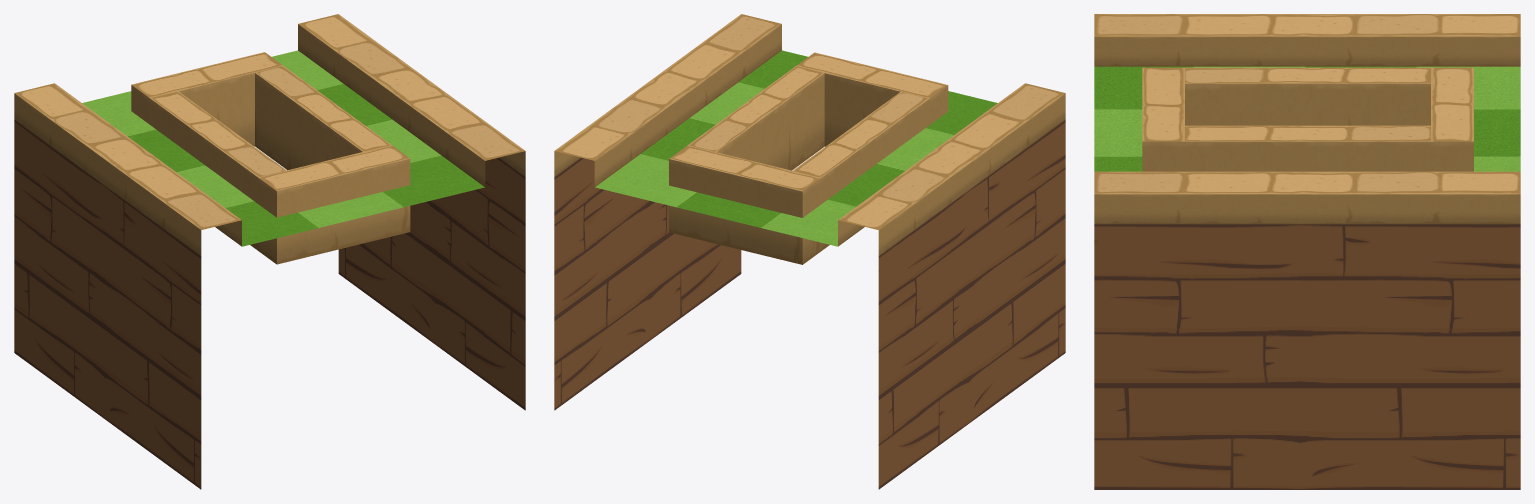
File: tile24.FBX
3 renders of one model, left to right at view 1: azimuth 30°, elevation 25°; view 2: azimuth 150°, elevation 25°; view 3: azimuth 270°, elevation 25°, orthographic. The views are drawn at different scales.
Visible parts, largest first — view 1: tile24_walls, tile24_obstacle, tile24_floor; view 2: tile24_walls, tile24_obstacle, tile24_floor; view 3: tile24_walls, tile24_obstacle, tile24_floor.
Part boxes in pixels (bbox=[...]): tile24_walls: bbox=[14, 14, 525, 489]; tile24_obstacle: bbox=[131, 52, 410, 264]; tile24_floor: bbox=[82, 50, 484, 246]; tile24_walls: bbox=[554, 14, 1065, 489]; tile24_obstacle: bbox=[669, 52, 948, 264]; tile24_floor: bbox=[595, 50, 997, 246]; tile24_walls: bbox=[1094, 14, 1520, 489]; tile24_obstacle: bbox=[1142, 67, 1473, 171]; tile24_floor: bbox=[1094, 66, 1520, 171].
Bounding box in the file's own units: 1280 × 980 × 1280.
